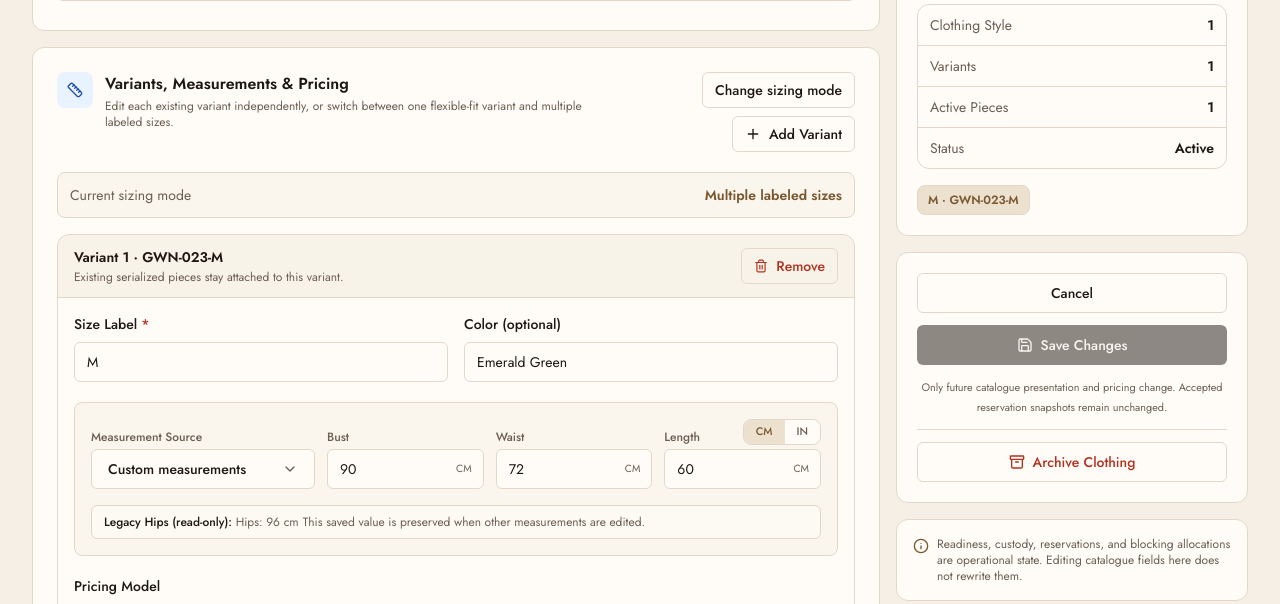
it: EditClothingPage › moves a referenced removed variant out of the normal editor after authoritative reload
This screenshot has width=1280, height=604.
(page scrolled)
Expected: the field named "GWN-023-M Size Label" is shown, [74,342,448,382]
Step 1. Click the button with aria-label "Remove GWN-023-M" → point(790, 266), box [741,248,838,284]
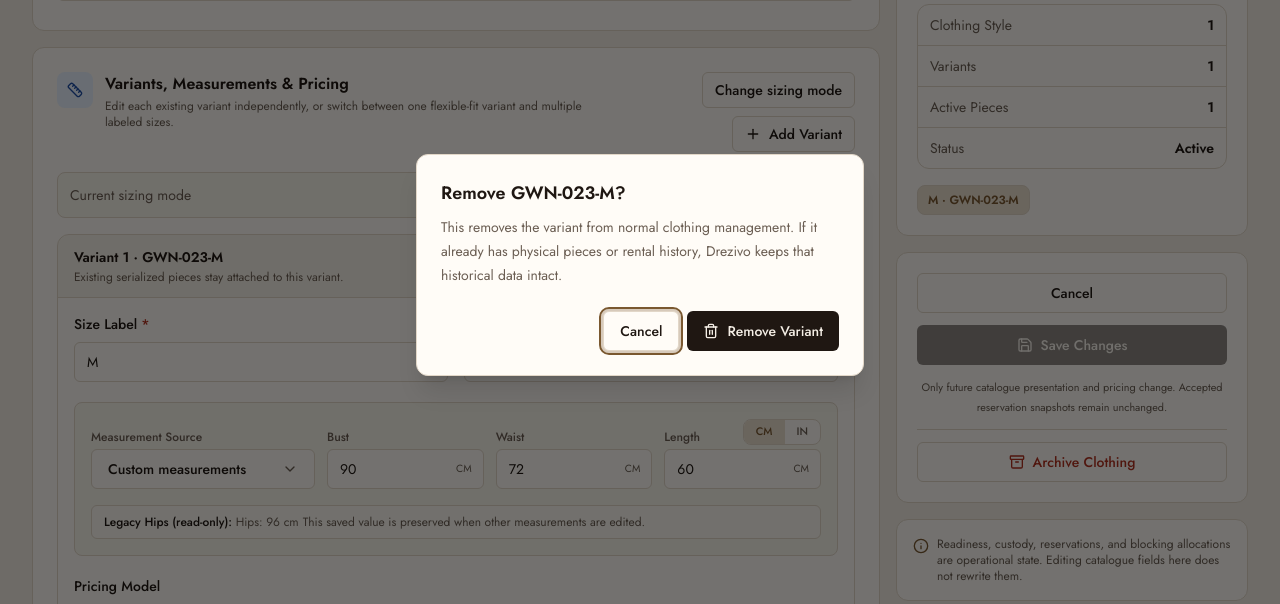
Step 2. Click the button "Remove Variant" → point(763, 331), box [687,311,839,351]
(page scrolled)
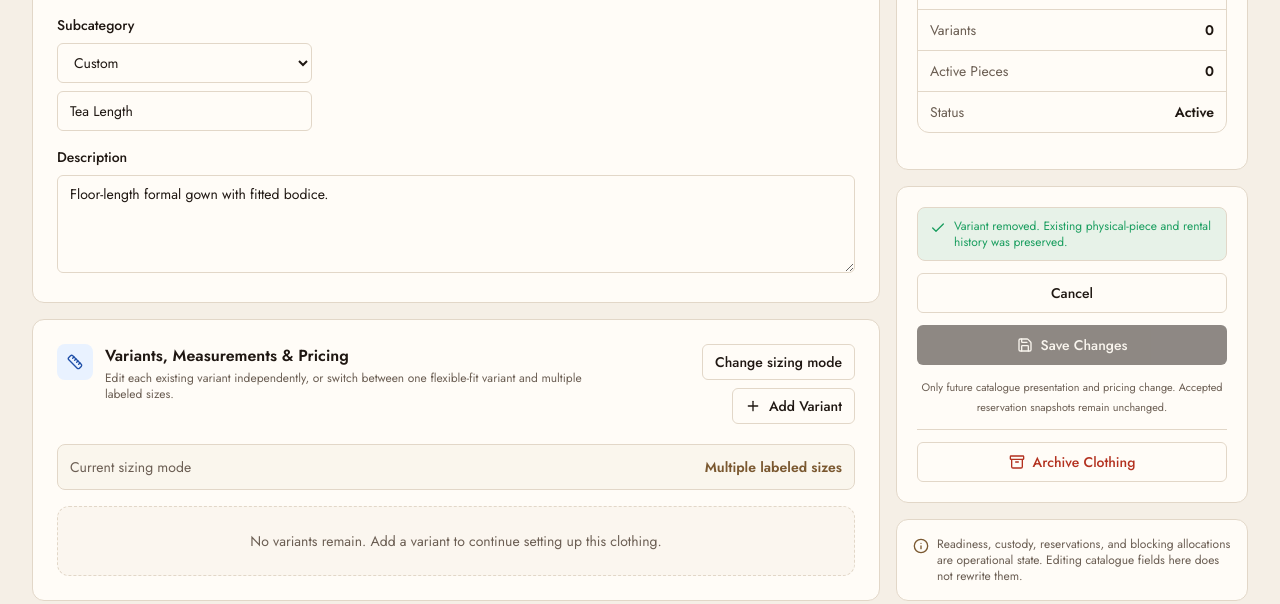
Now the message reads "Variant removed. Existing physical-piece and rental history was preserved.", box [954,217,1211,251]
